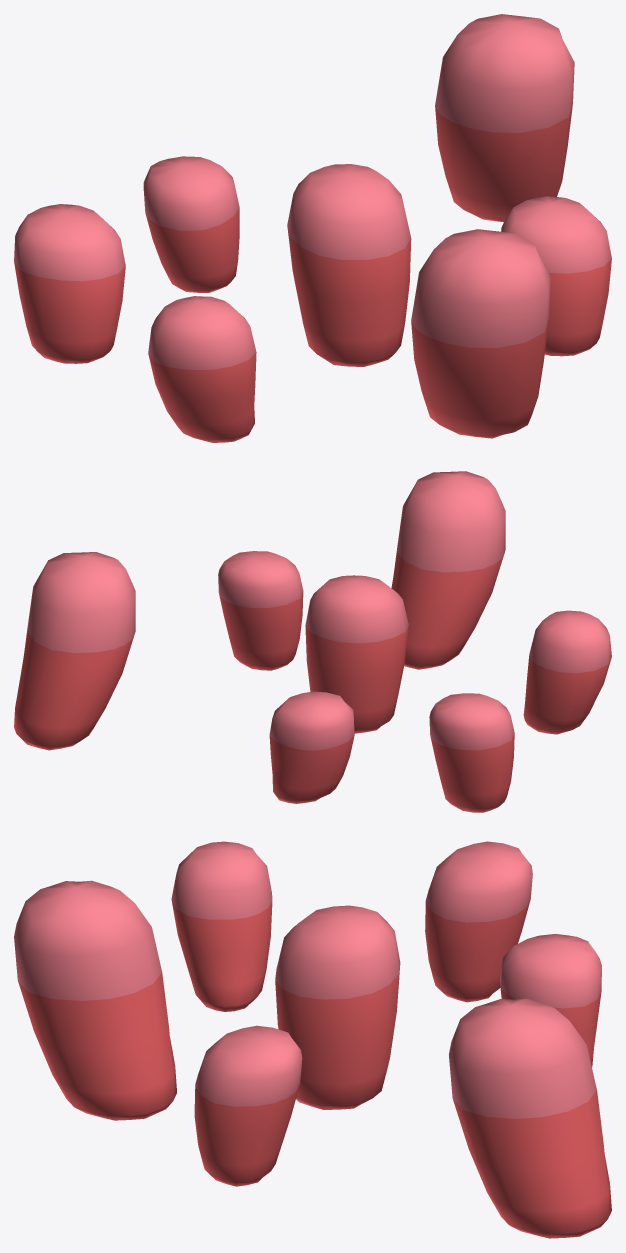
The model's file is Anemone_B_03.fbx.
3 renders of one model, top to bottom at view 1: azimuth 30°, elevation 25°; view 2: azimuth 150°, elevation 25°; view 3: azimuth 270°, elevation 25°, orthographic. The views are drawn at different scales.
Parts seen in each view (by area): view 1: Anemone_B_03_LOD0; view 2: Anemone_B_03_LOD0; view 3: Anemone_B_03_LOD0.
Boxes of the visible parts, x1=… form: Anemone_B_03_LOD0: x1=14, y1=14, x2=611, y2=442; Anemone_B_03_LOD0: x1=14, y1=471, x2=611, y2=812; Anemone_B_03_LOD0: x1=14, y1=841, x2=611, y2=1238.
Size of what is drawn, in the model's own units: 580 by 205 by 524.
